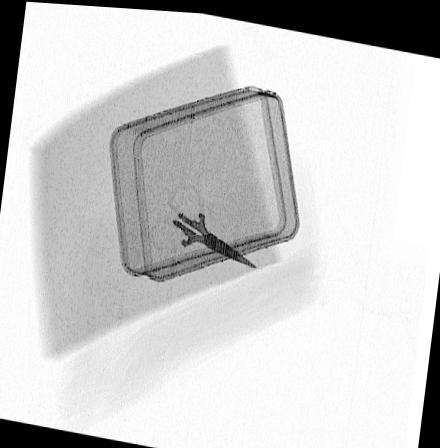Scissors: (145, 175, 260, 270)
